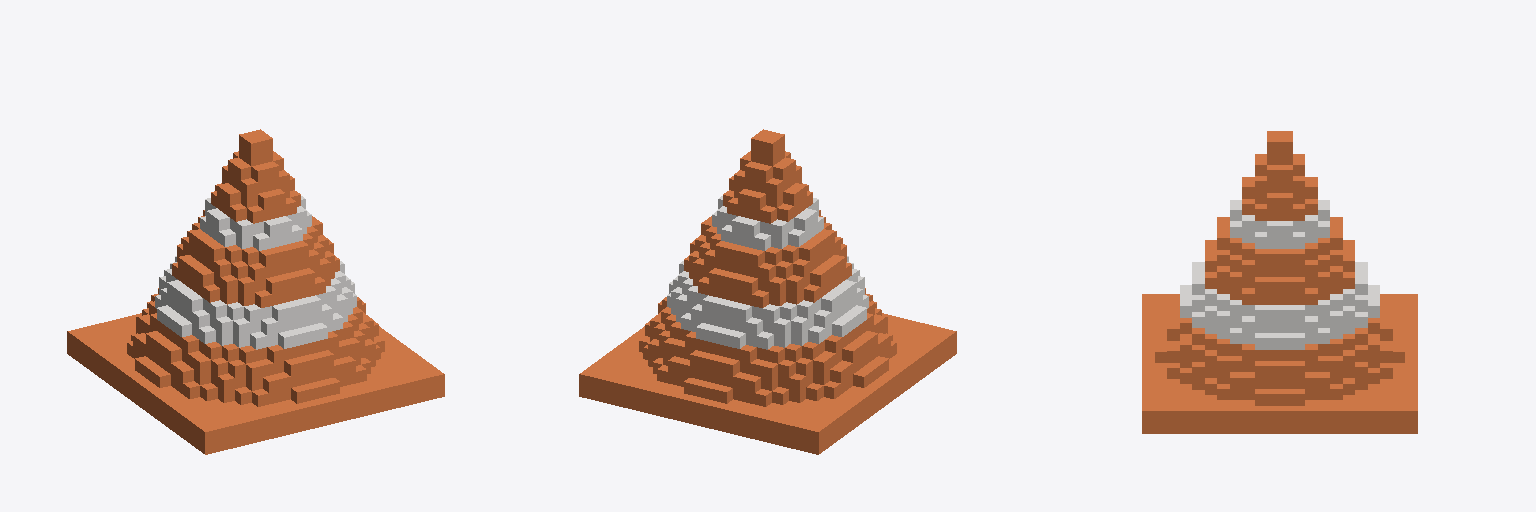
3 renders of one model, left to right at view 1: azimuth 30°, elevation 25°; view 2: azimuth 150°, elevation 25°; view 3: azimuth 270°, elevation 25°, orthographic.
Visible parts, largest first — view 1: object 1; view 2: object 1; view 3: object 1.
Boxes of the visible parts, x1,y1,x2,y2 form: object 1: [67, 129, 444, 454]; object 1: [579, 129, 956, 454]; object 1: [1142, 131, 1417, 433].
Size of the model in its own units: 2.2 by 2.1 by 2.2.
1 materials, 1 textured.